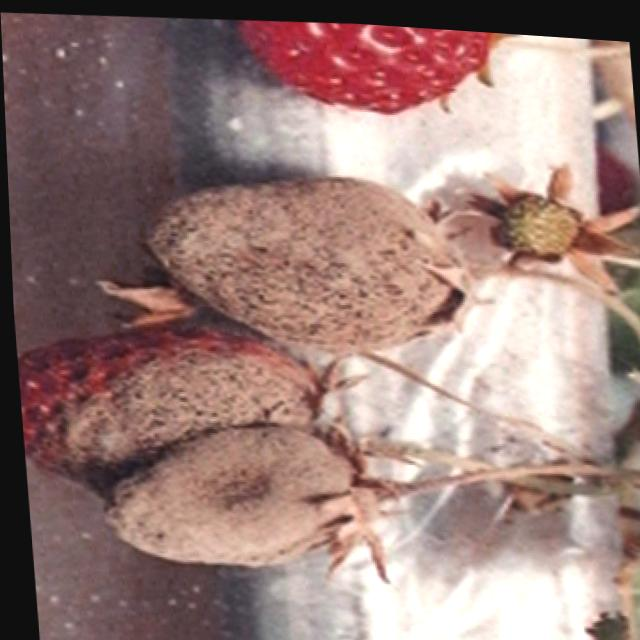Gray Mold: (16, 317, 364, 500), (136, 168, 494, 344), (98, 409, 411, 582)
